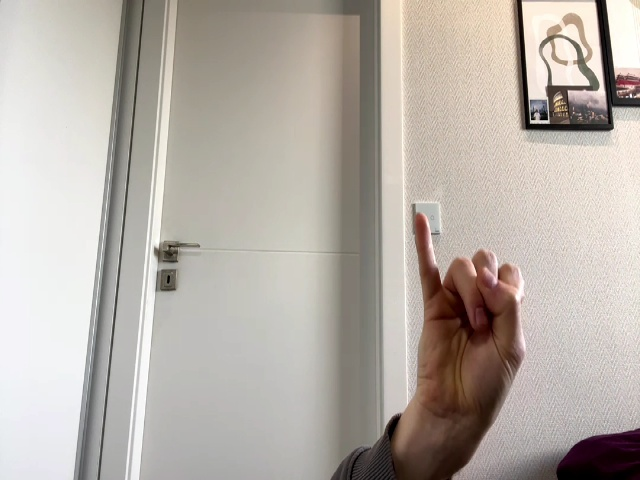I: (415, 213, 526, 412)
